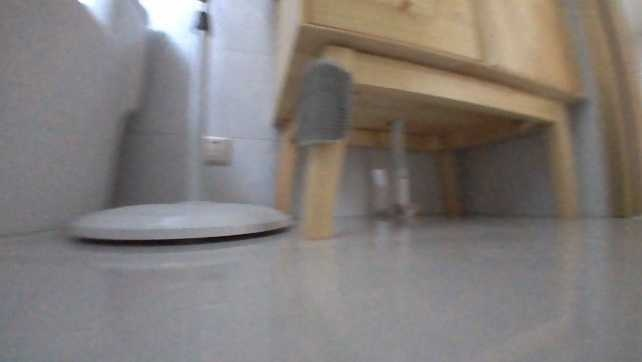chair_base: (62, 133, 294, 245)
toilet: (0, 1, 148, 235)
